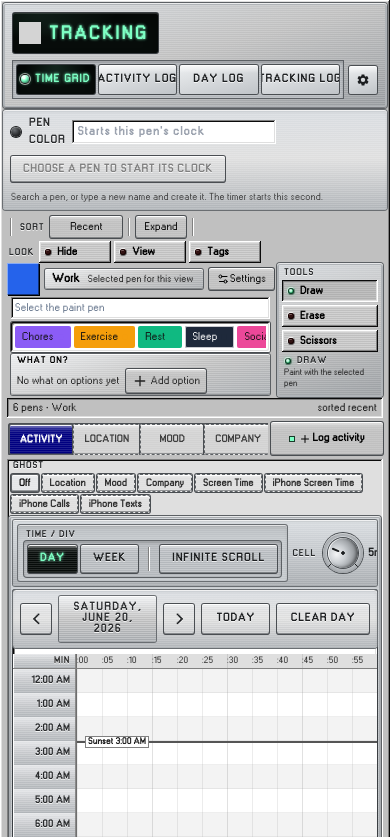
Test: TrackingDesk › opens Tracking settings from the gear beside the view keys
Step 1. Click the button named "Tracking settings" → (363, 80), box 349,66 -> 377,94
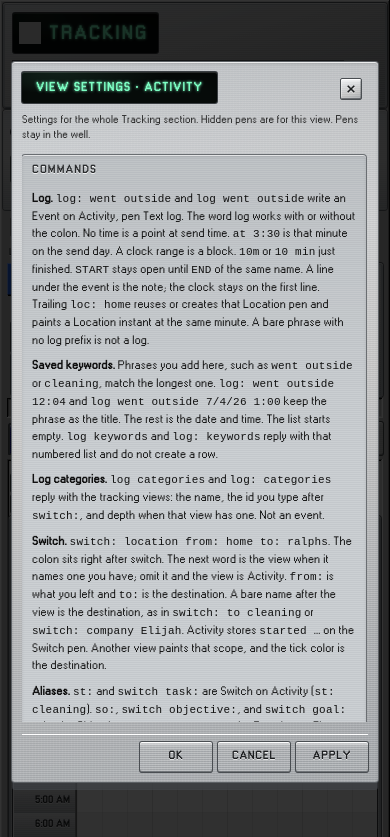
Expected: the element with test id "tracking-command-notes" shows "went outside", 271,360 -> 353,372
Expected: the element with test id "tracking-command-notes" shows "cleaning", 44,378 -> 99,390
Step 2. Click the button "Cancel" → (254, 757), box 218,742 -> 290,772
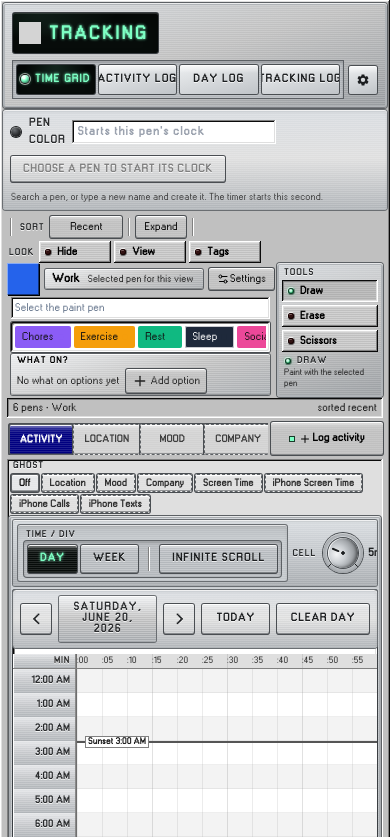
Step 3. Press the mouse on the tab "Tracking log" → (300, 80), box 262,65 -> 339,94
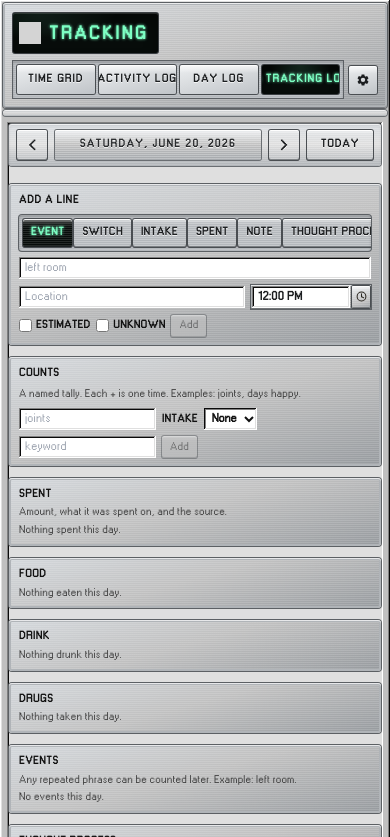
Step 4. Click the button named "Tracking settings" → (363, 80), box 349,66 -> 377,94
(page scrolled)
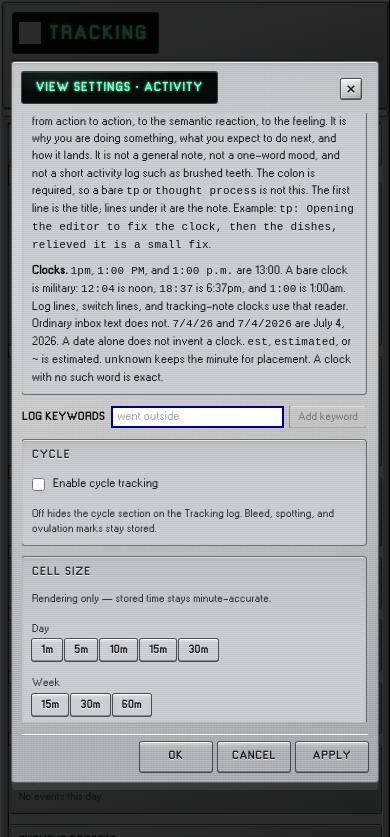
Expected: the field named "New log keyword" is shown, 111,406 -> 284,428
